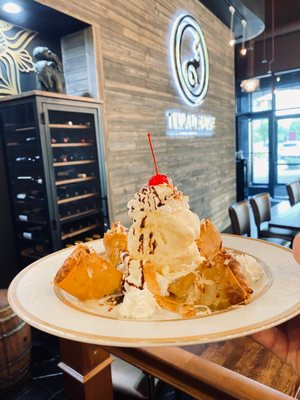curry: (4, 194, 300, 397)
steak: (165, 8, 209, 108)
sushi: (53, 242, 123, 301)
